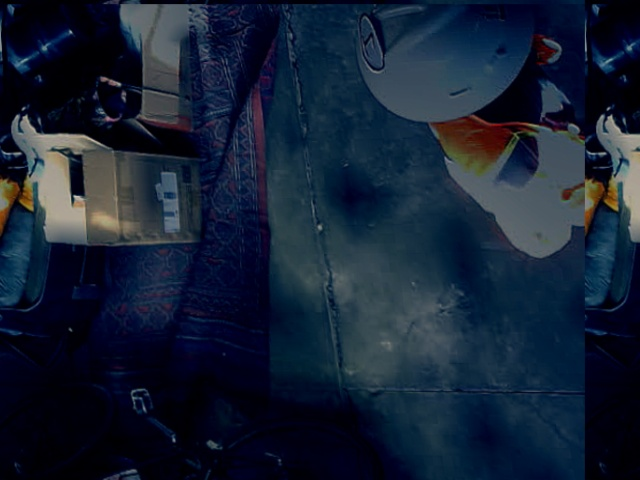one: (356, 13, 384, 70)
